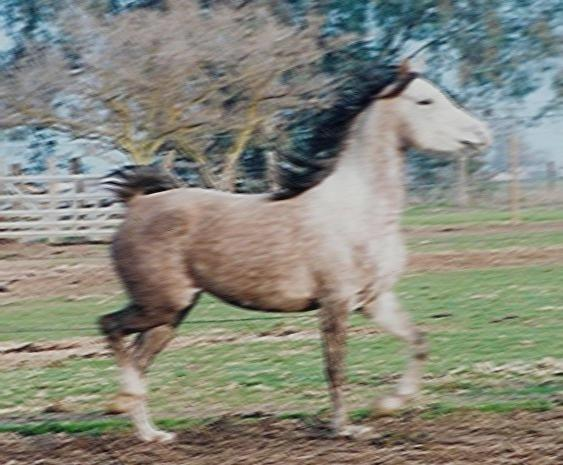horse: (93, 53, 493, 444)
